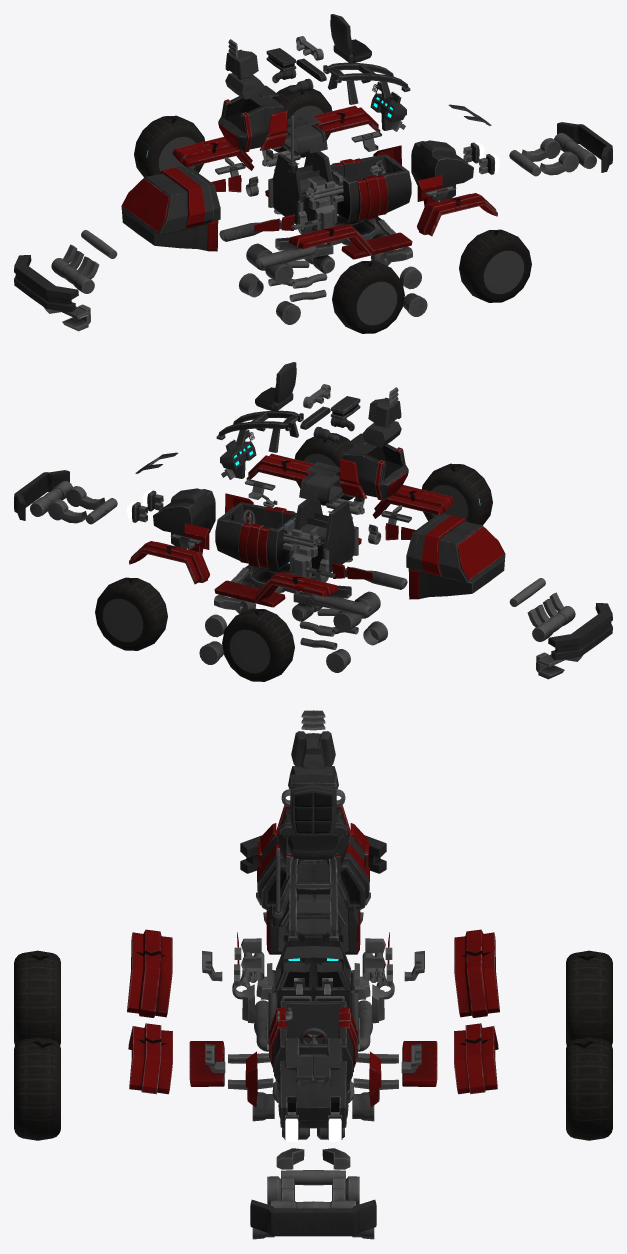
Rendered from SM_Racer_Cage.fbx.
3 views of the same model, one above another, from view 1: azimuth 30°, elevation 25°; view 2: azimuth 150°, elevation 25°; view 3: azimuth 270°, elevation 25° (orthographic). The views are drawn at different scales.
Parts seen in each view (by area): view 1: CarBody_Mesh, lowpoly_wheel_Mesh; view 2: CarBody_Mesh, lowpoly_wheel_Mesh; view 3: CarBody_Mesh, lowpoly_wheel_Mesh, Steer_wheel_mesh.
Part boxes in pixels (x1,y1,x2,y2): CarBody_Mesh: (14,14,612,331); lowpoly_wheel_Mesh: (134,85,531,333); CarBody_Mesh: (14,362,612,679); lowpoly_wheel_Mesh: (95,433,492,681); CarBody_Mesh: (127,710,499,1239); lowpoly_wheel_Mesh: (14,950,612,1140); Steer_wheel_mesh: (271,848,327,1043).
Bounding box in the file's own units: 1004 × 658 × 505.
